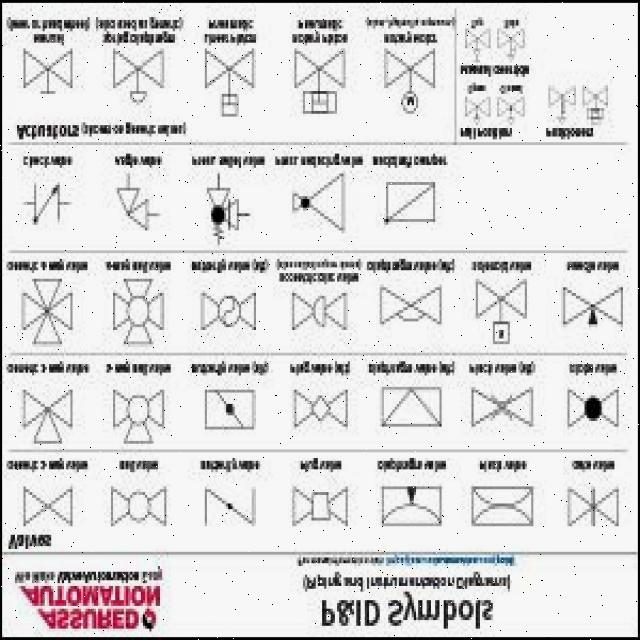3 Way Ball Valve: (83, 379, 181, 453)
3 Way Gate Valve: (19, 386, 79, 450)
4 Way Ball Valve: (106, 275, 187, 350)
4 Way Gate Valve: (12, 280, 77, 354)
Angle Valve: (116, 182, 154, 241)
Ball Valve: (102, 471, 175, 536)
Butterfly Valve: (188, 478, 264, 538)
Check Valve: (19, 178, 75, 230)
Gate Valve: (17, 480, 81, 531)
Globe Valve: (544, 376, 622, 448)
Hand Operated Gate Valve: (6, 44, 80, 100)
Needle Valve: (551, 480, 626, 540), (552, 290, 628, 333)
PSV: (186, 173, 254, 250)
Plug Valve: (266, 387, 356, 439), (284, 478, 364, 533)
